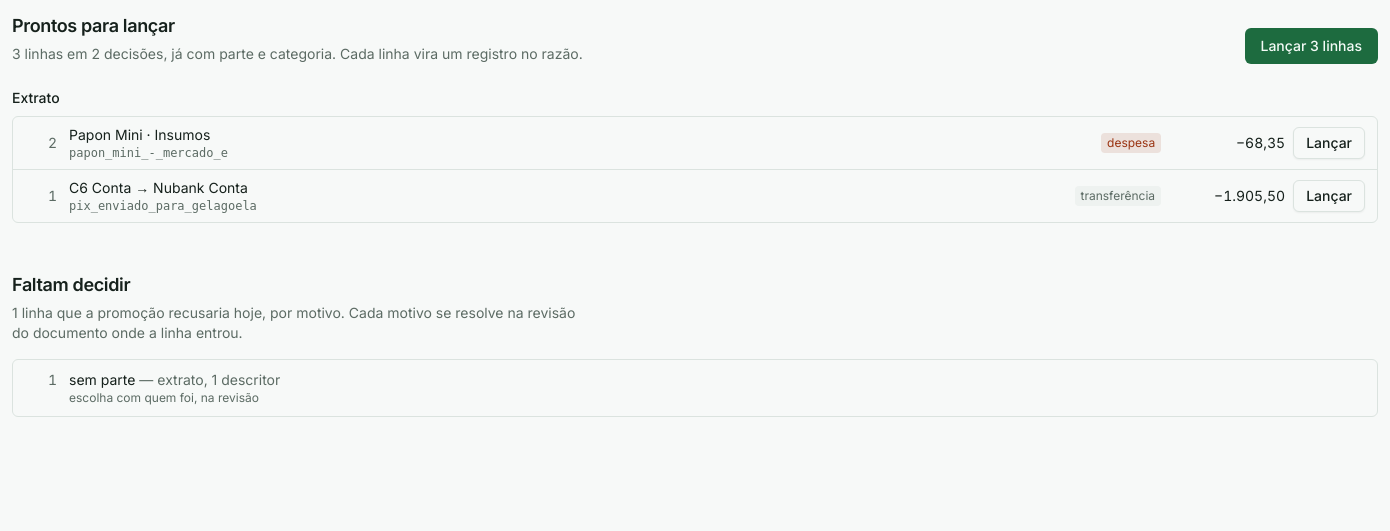
what the screen claims is ready › opens a decision into the lines it covers
This screenshot has width=1390, height=531.
Expected: the heading "Prontos para lançar" is shown, [12,15,175,36]
Click the button "2 Papon Mini · Insumos papon_mini_-_mercado_e despesa −68,35" at (140, 134), box [25,125,1285,161]
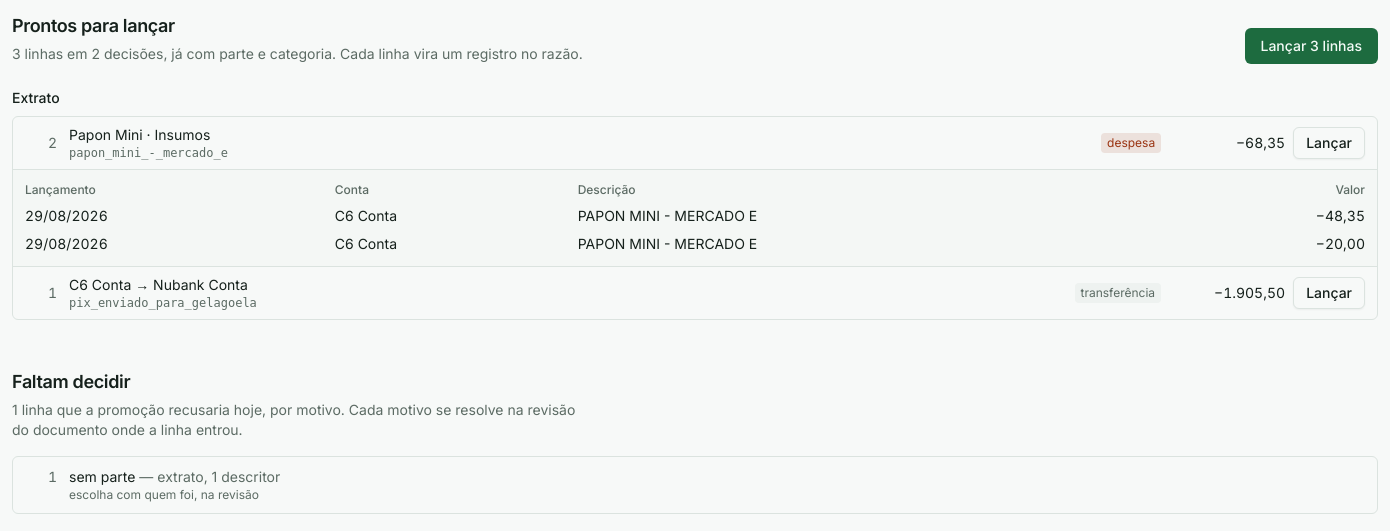
Expected: the text "−68,35" is shown, [1236,134,1285,151]
Now the text "29/08/2026" is shown 2 times, box [25,202,335,230]; [25,230,335,258]
Now the text "−20,00" is shown, box [1204,230,1365,258]
